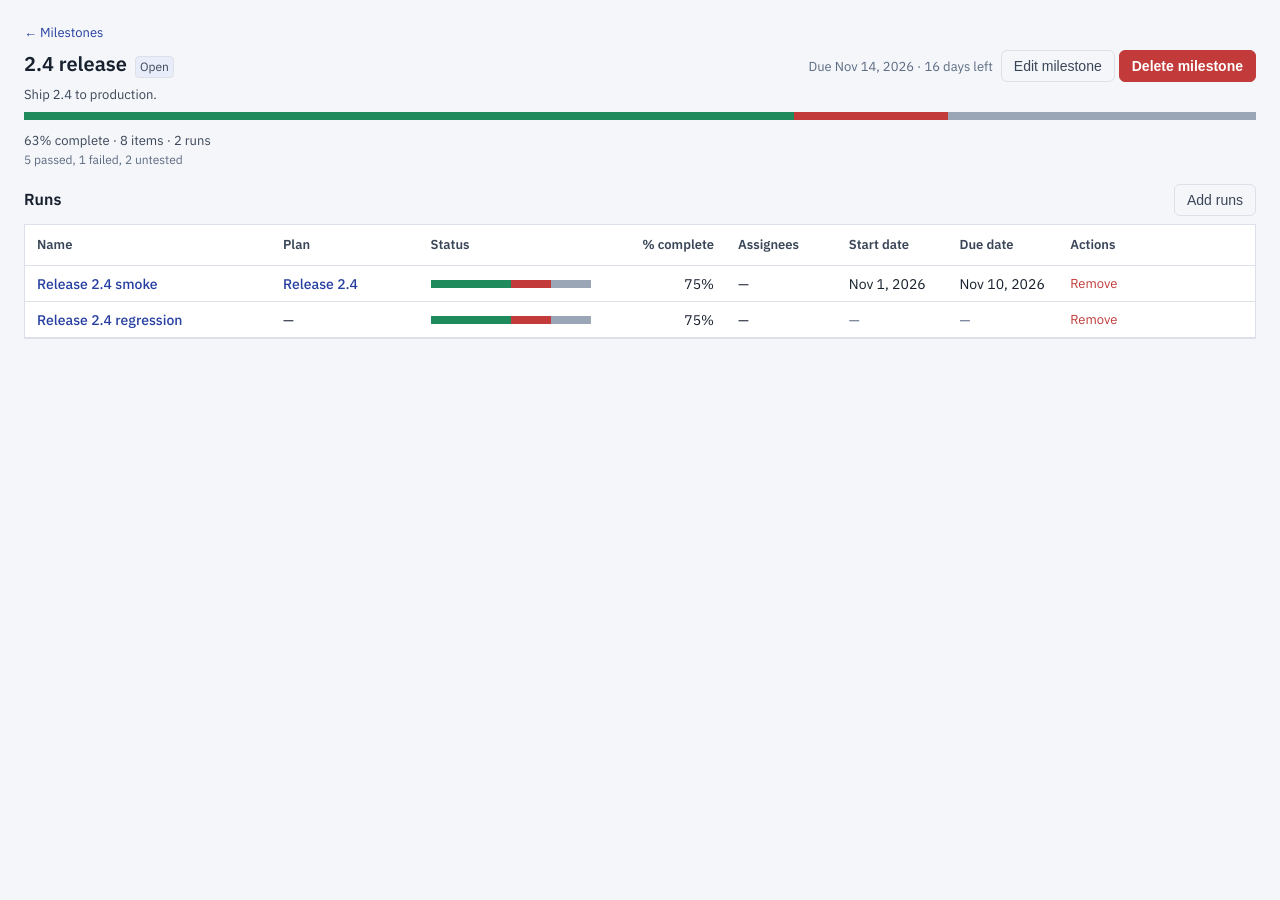
milestone detail › adds runs from the unattached list and reloads the table
Click the button "Add runs".
click(1215, 200)  # box [1174,184,1256,216]
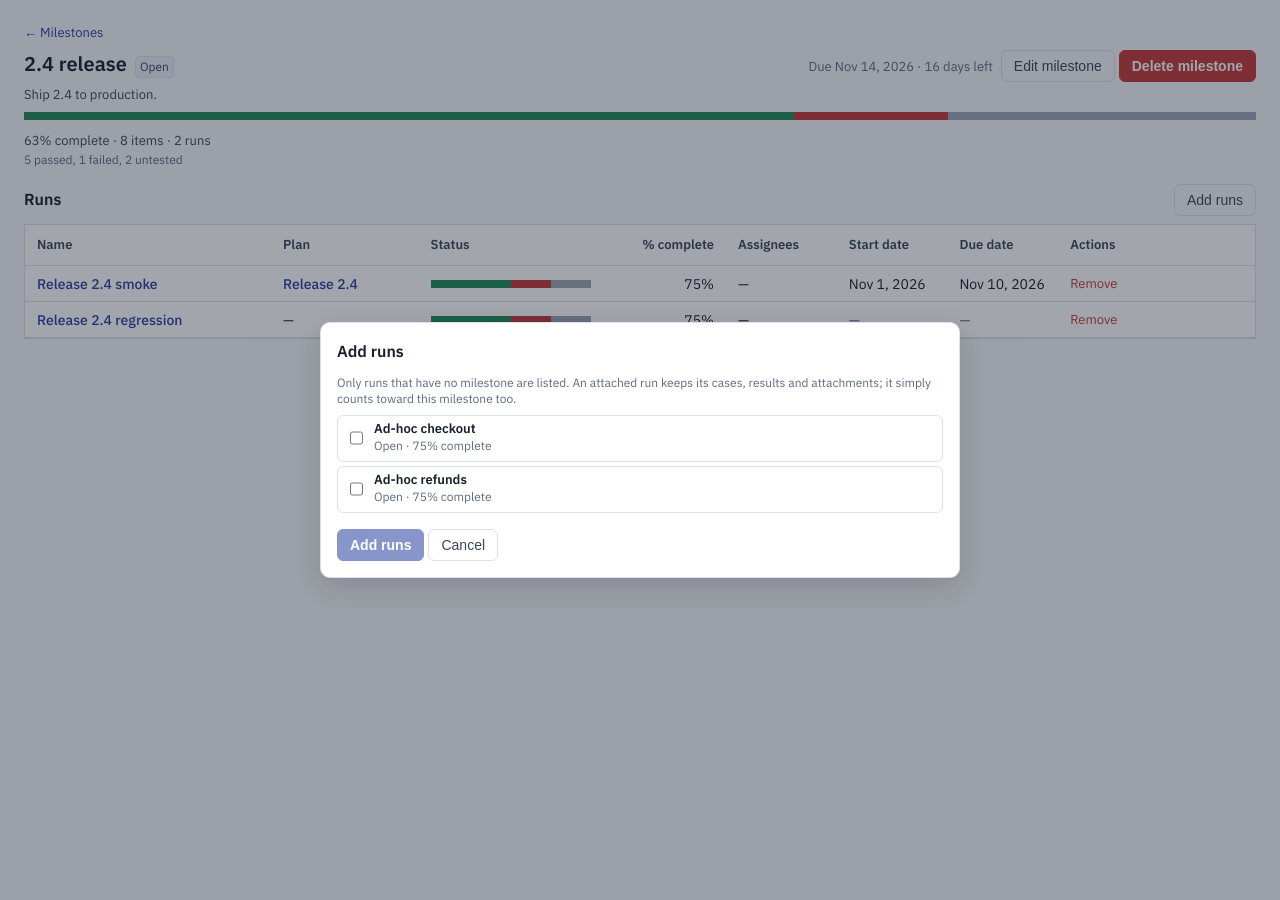
Expected: the checkbox labelled "Ad-hoc checkout Open · 75% complete" is shown
Click the checkbox labelled "Ad-hoc checkout Open · 75% complete".
click(356, 438)  # box [350,422,363,454]
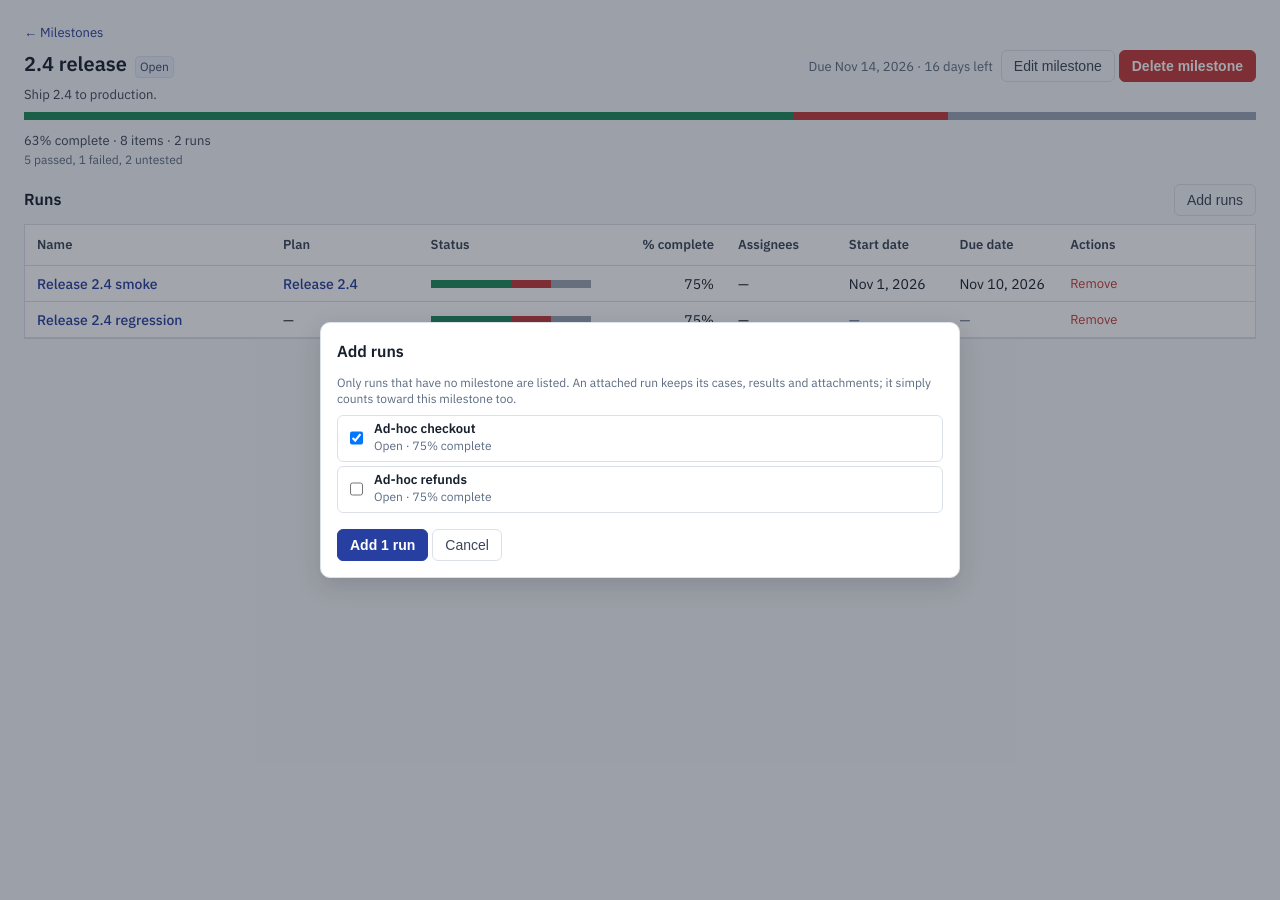
Click the button "Add 1 run".
click(383, 545)  # box [337,529,428,561]
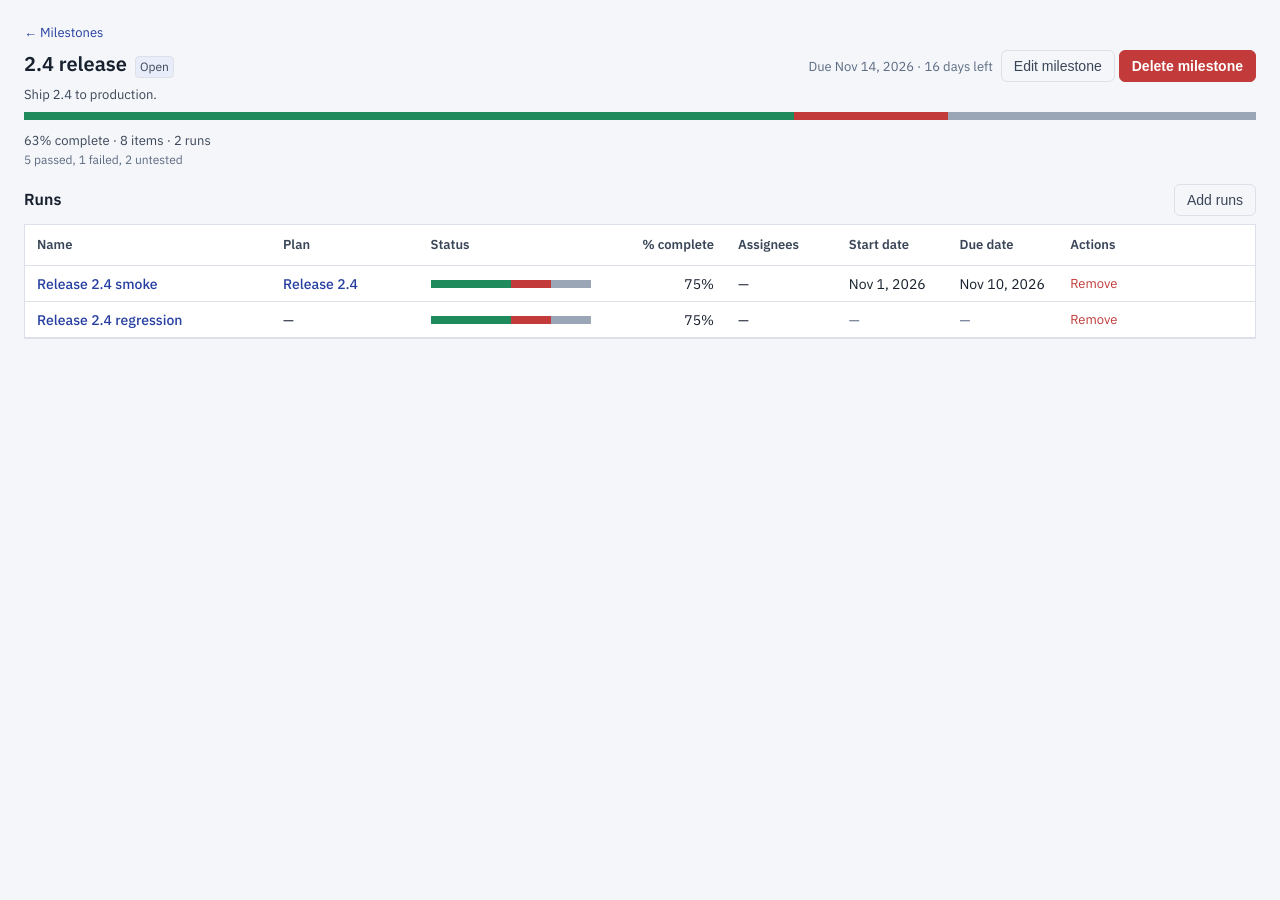
Expected: the dialog is gone
